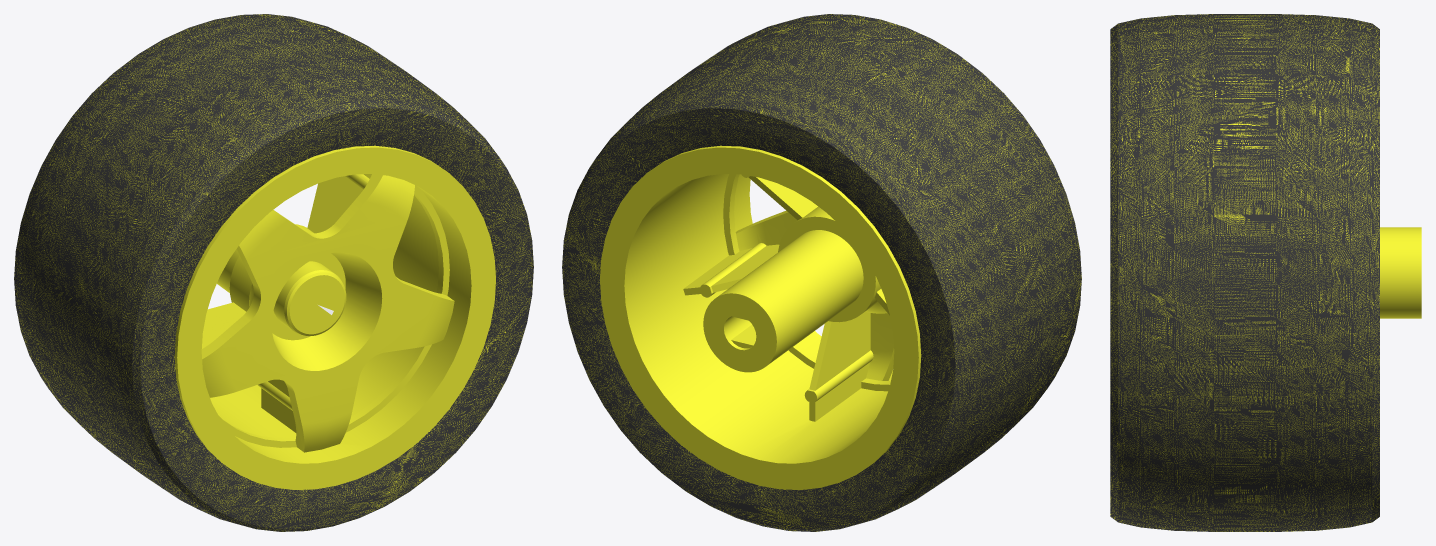
The model's file is MY_RIGHT_WHEEL.dae.
The picture shows the model from 3 angles, left to right: view 1: azimuth 30°, elevation 25°; view 2: azimuth 150°, elevation 25°; view 3: azimuth 270°, elevation 25°; orthographic projection. The views are drawn at different scales.
Visible parts, largest first — view 1: MY_RIGHT_WHEEL (×6); view 2: MY_RIGHT_WHEEL (×6); view 3: MY_RIGHT_WHEEL (×2).
Part boxes in pixels (x1,y1,x2,y2): MY_RIGHT_WHEEL (×6): [14, 14, 533, 531]; MY_RIGHT_WHEEL (×6): [562, 14, 1081, 531]; MY_RIGHT_WHEEL (×2): [1110, 14, 1421, 531].
Size of the model in its own units: 3.94 by 2.36 by 3.94.
